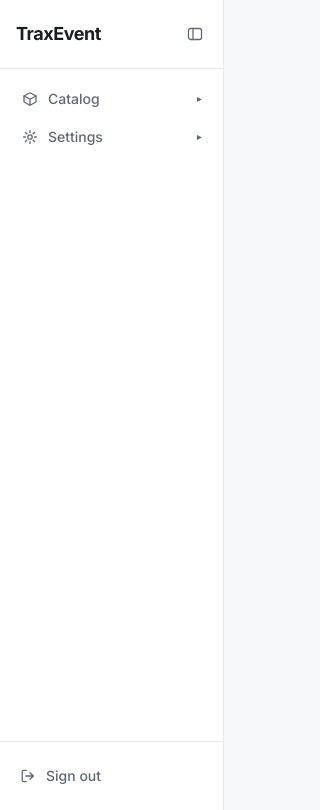
AdminSidebar — workspace nav (no eventSlug) › Catalog section contains Vendors and Forms
Click the button named "expand catalog". click: [199, 99]
box: [187,87,211,111]
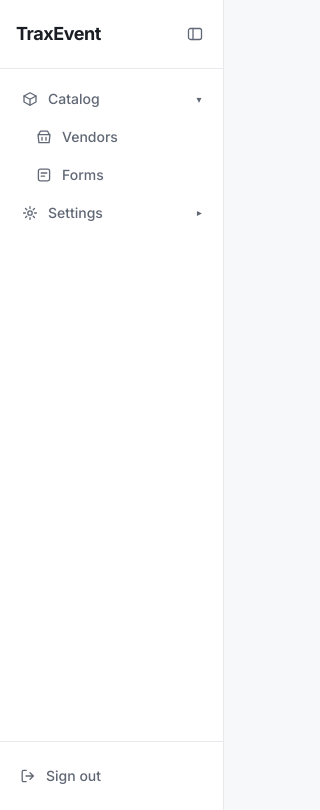
Expected: the text "Vendors" is shown, [62,127,118,147]
Expected: the text "Forms" is shown, [62,165,104,185]
